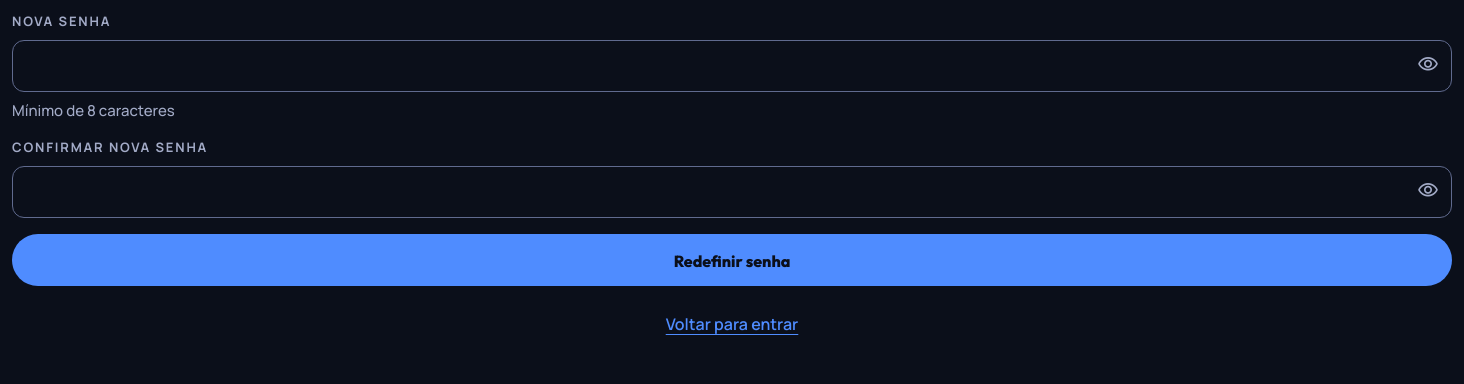
Test: RedefinirSenhaForm (CA-30, CA-31) › senhas diferentes: "As senhas não coincidem" e NENHUMA request (CA-30)
Type "outra-senha-boa" into the password field labelled "Nova senha" at (732, 66), box x1=12 y1=40 x2=1452 y2=92
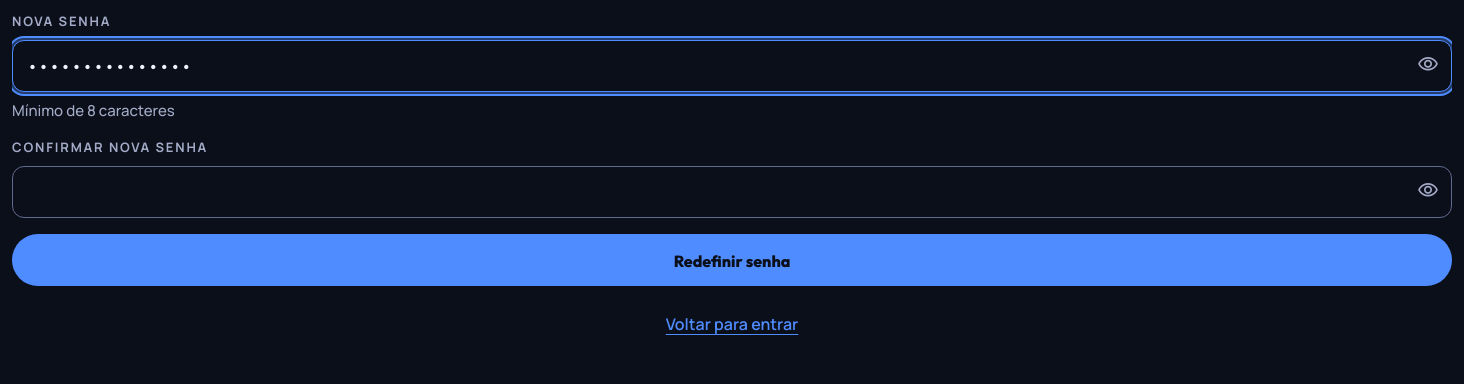
Type "outra-senha-boz" into the password field labelled "Confirmar nova senha" at (732, 192), box x1=12 y1=166 x2=1452 y2=218
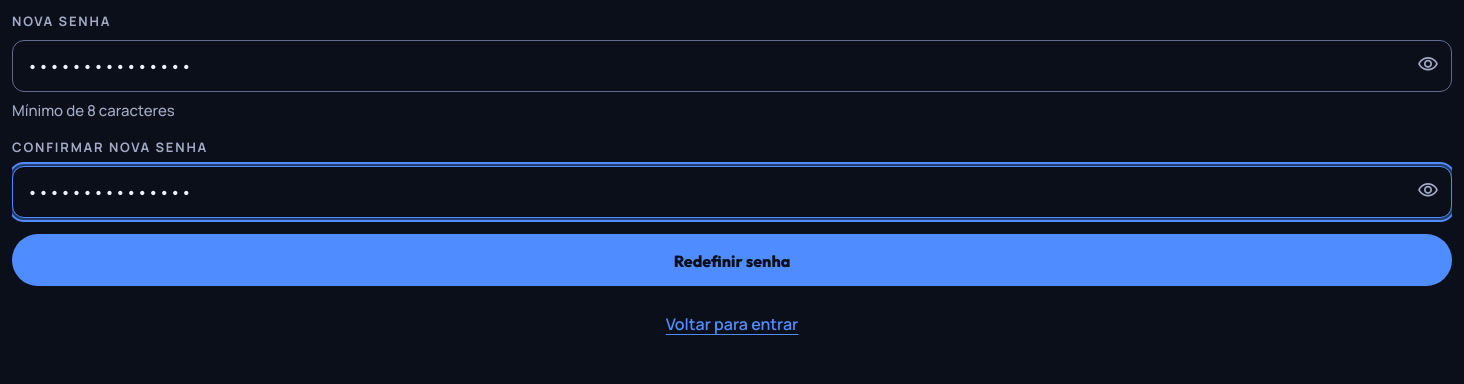
Click the button "Redefinir senha" at (732, 260), box x1=12 y1=234 x2=1452 y2=286
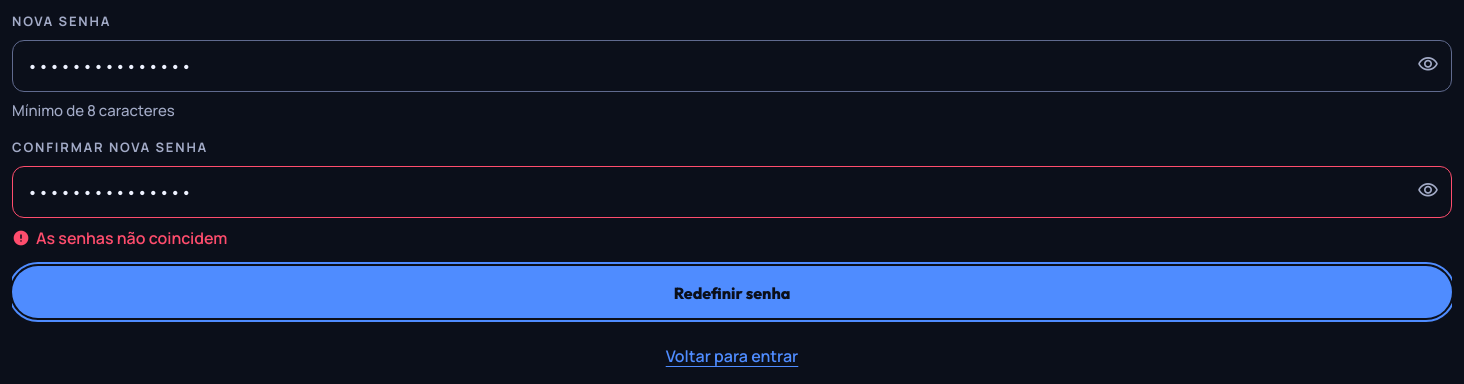
Now the text "As senhas não coincidem" is shown, box x1=12 y1=226 x2=228 y2=248
